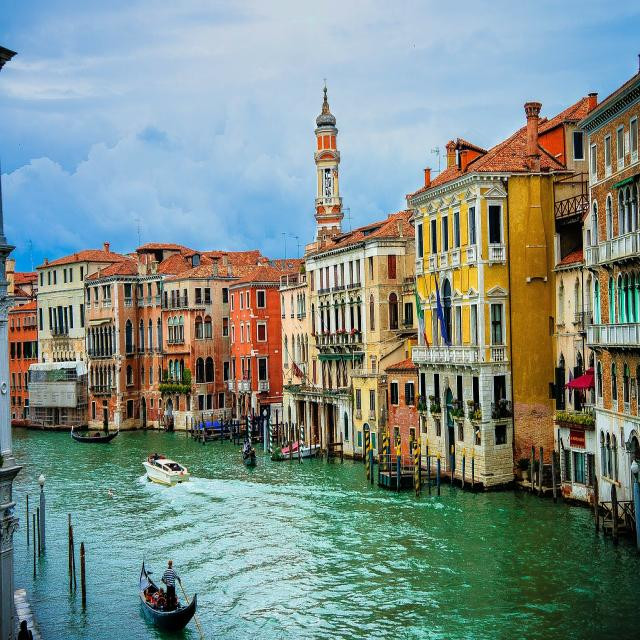boat: (122, 534, 213, 640), (141, 447, 197, 502)
